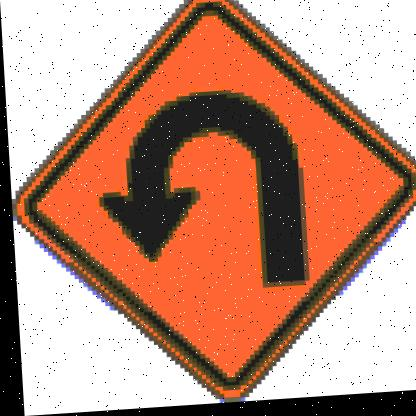U-turn: (1, 0, 416, 416)
